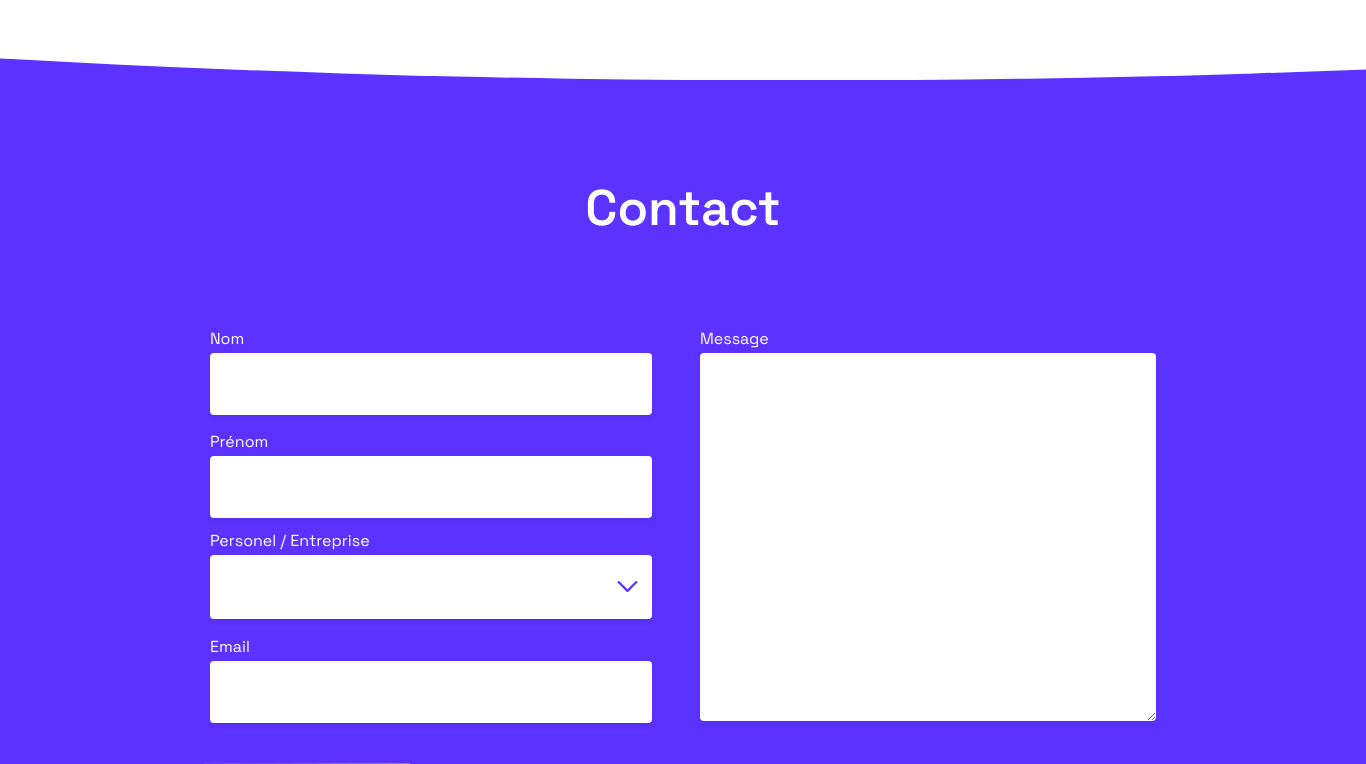
Scenario: When Home is created with a Foorm › and the form on the Home page is submitted › displays 'En cours', shows success message, and updates the button text
(page scrolled)
Type "Test" into the 1st field with test id "field-testid" at coordinates (431, 384), box [210,353,652,415]
Type "Test" into the field with test id "field-testid" below "Prénom" at coordinates (431, 487), box [210,456,652,518]
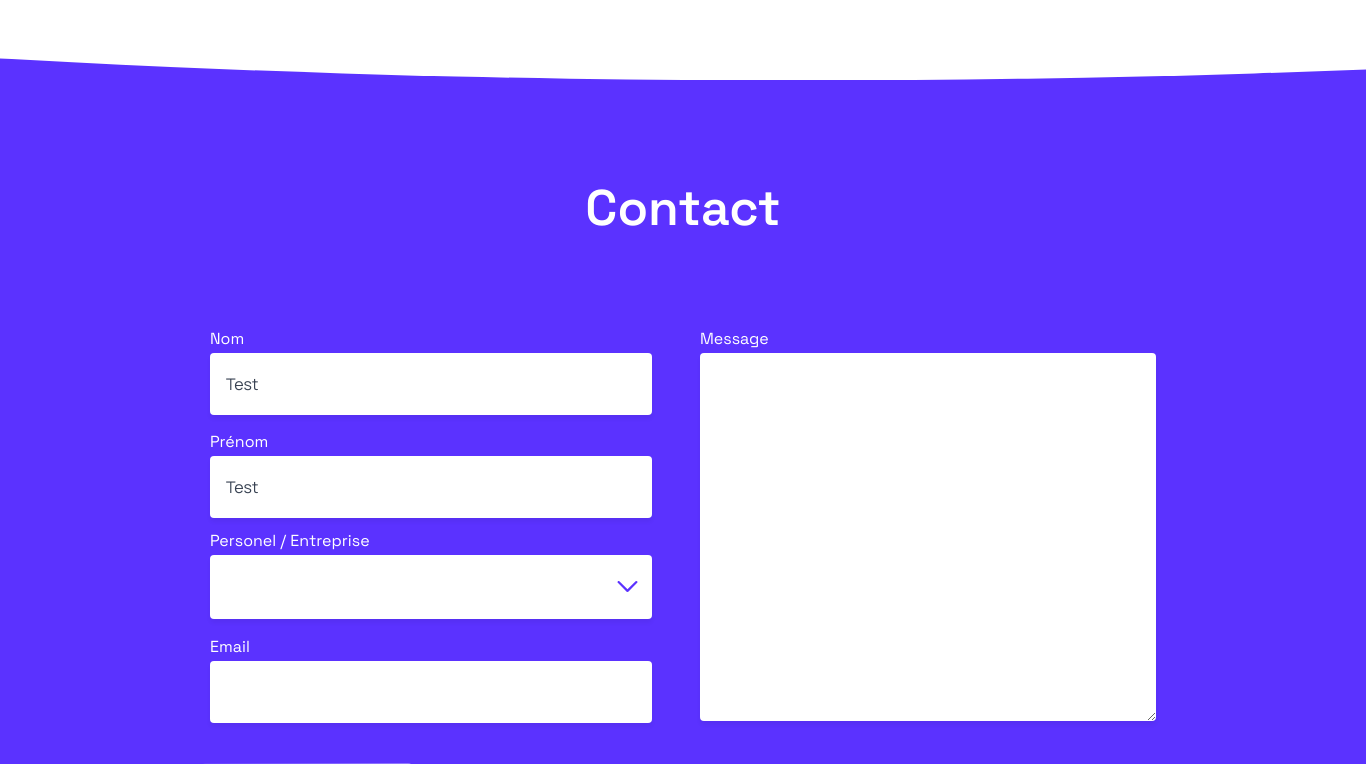
Type "Test" into the field with test id "field-testid" below "Email" at coordinates (431, 692), box [210,661,652,723]
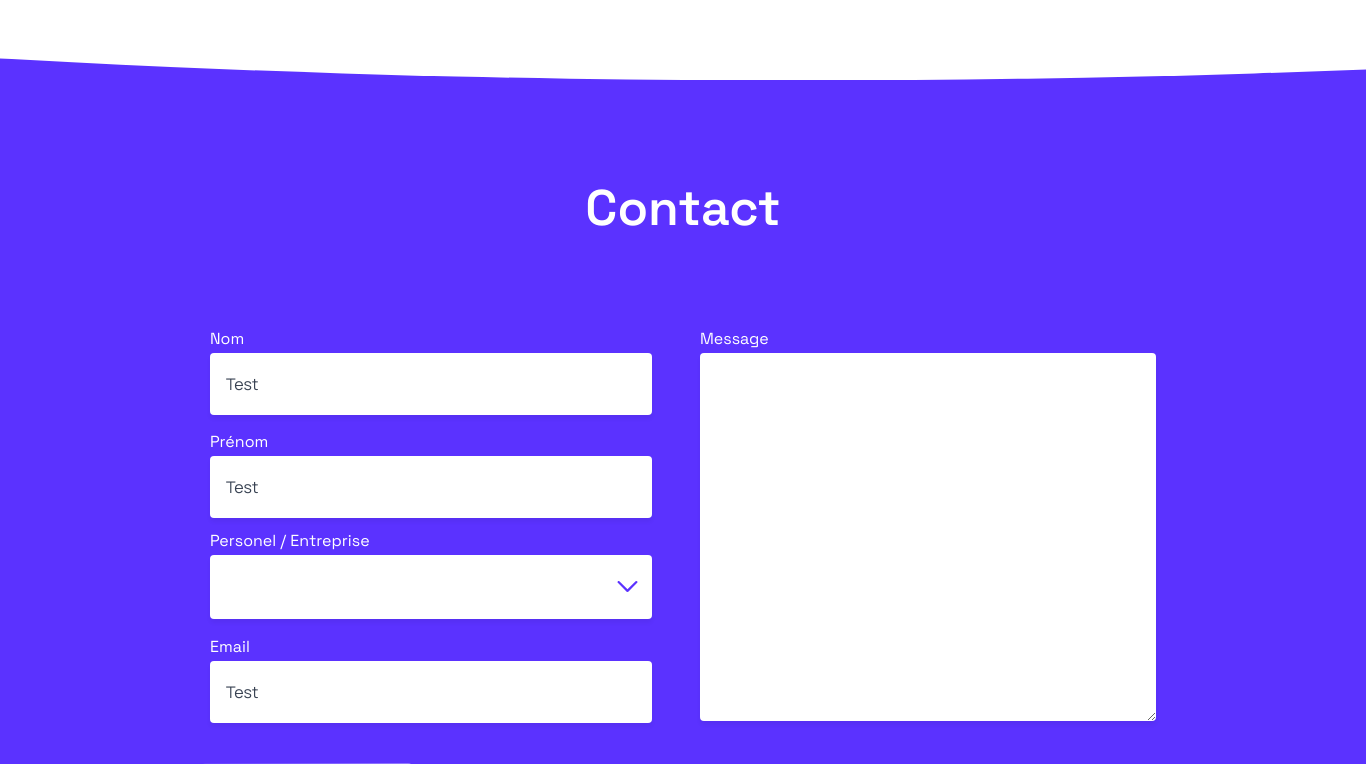
Type "Test" into the 2nd text box with test id "field-testid" at coordinates (928, 537), box [700,353,1156,721]
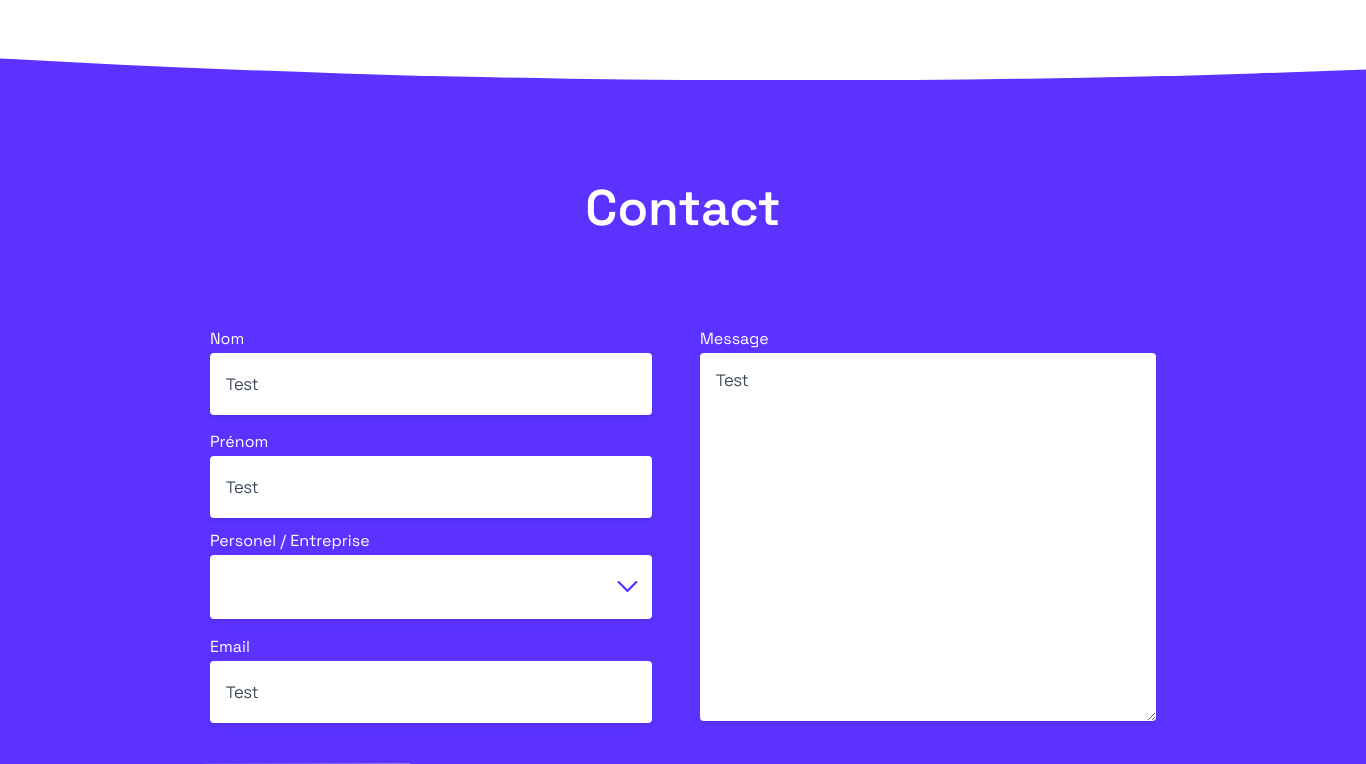
Click the button with test id "collapse-button-testid" at coordinates (628, 587), box [611,571,644,603]
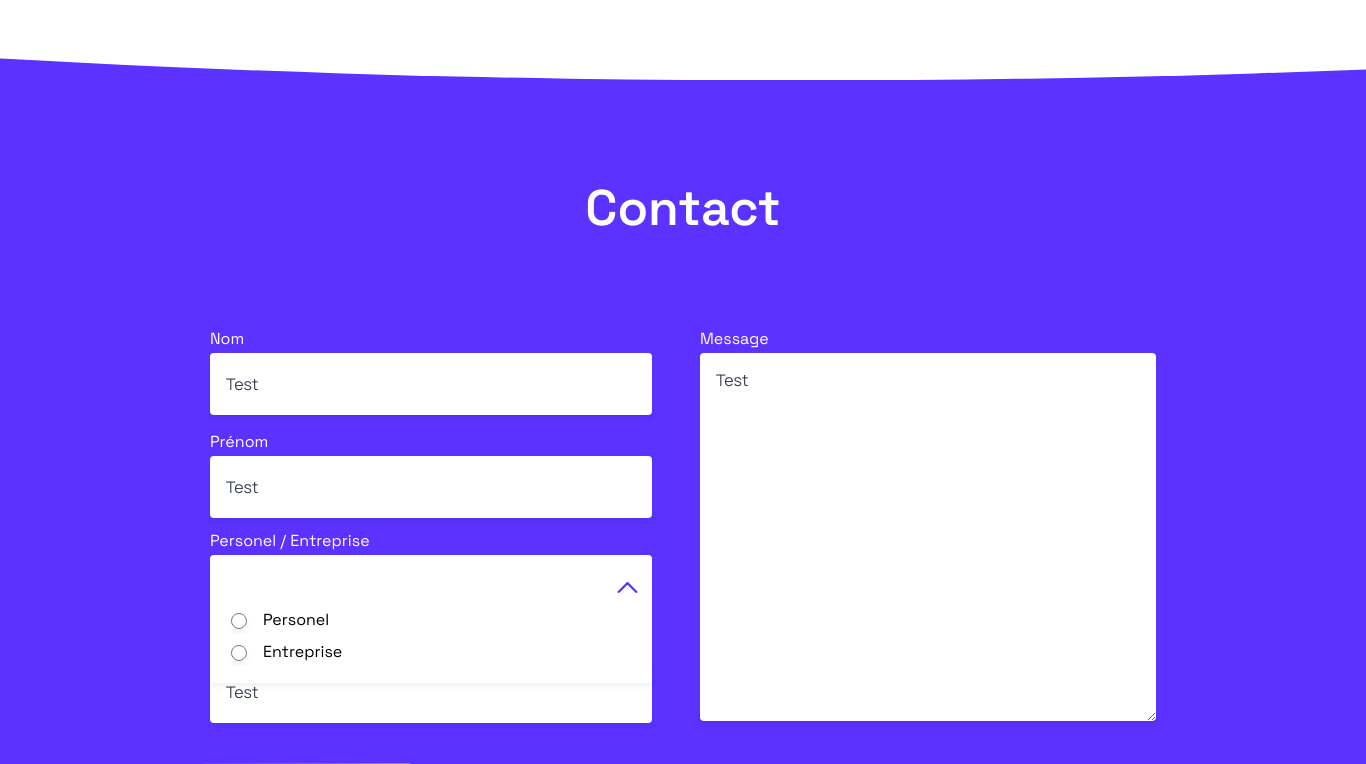
Click the list item "Personel" at coordinates (280, 619), box [231,609,329,630]
(page scrolled)
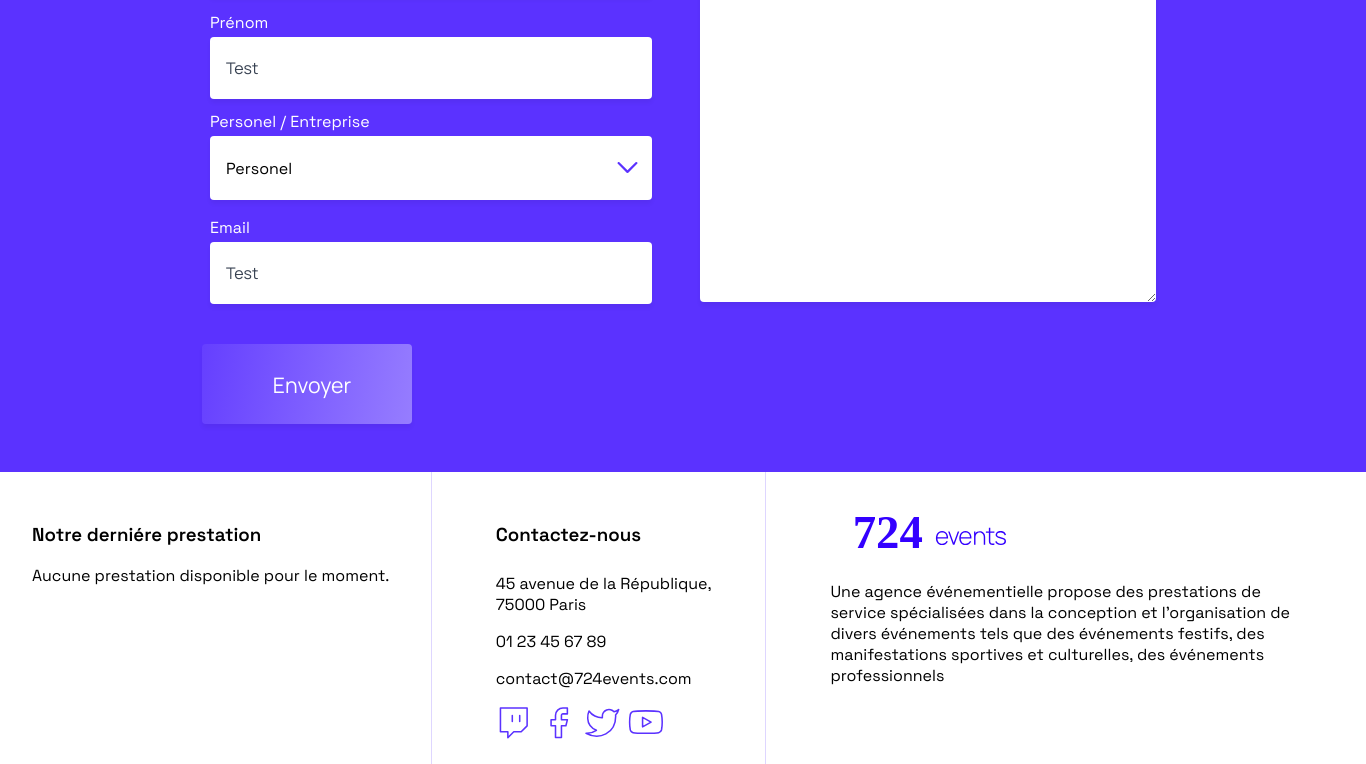
Click the button with test id "button-test-id" at coordinates (307, 384), box [202,344,412,424]
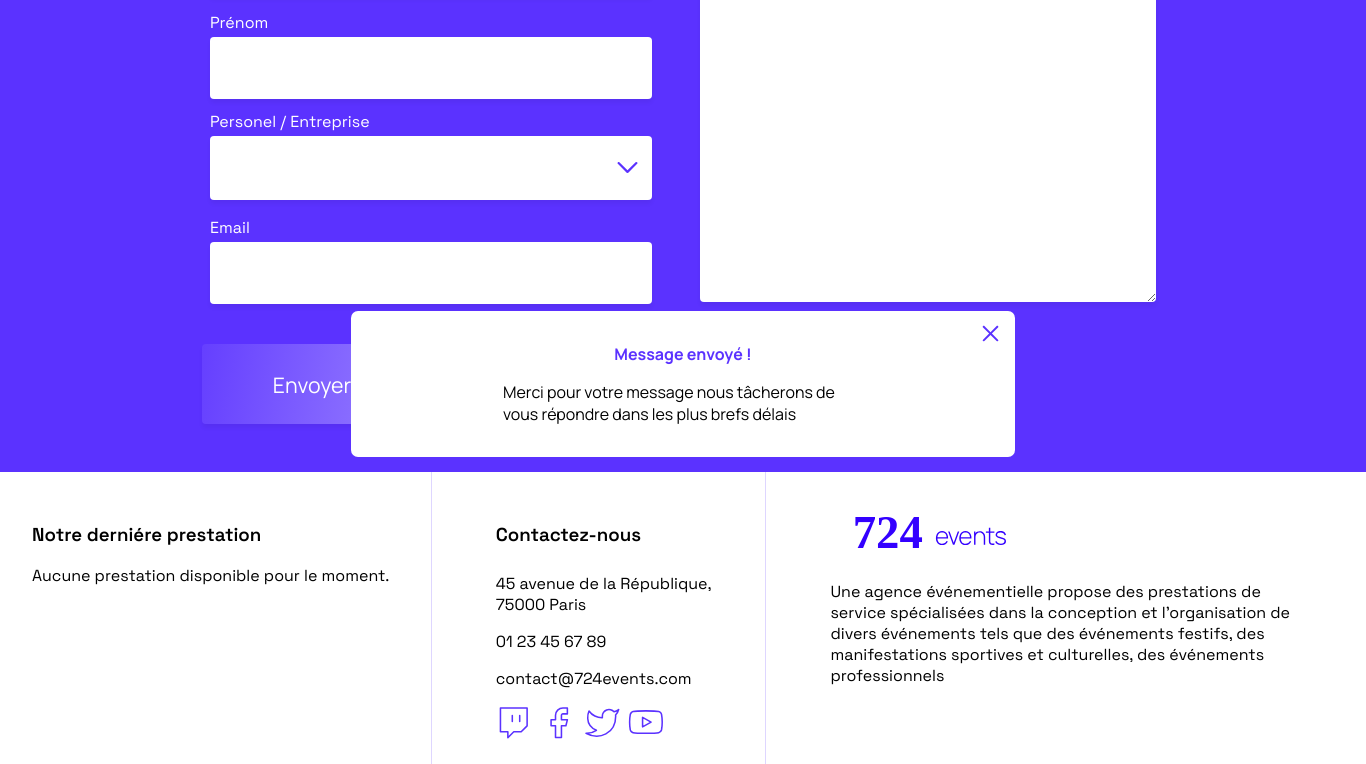
Check: the text "Message envoyé !" is shown, box [614,343,752,365]
